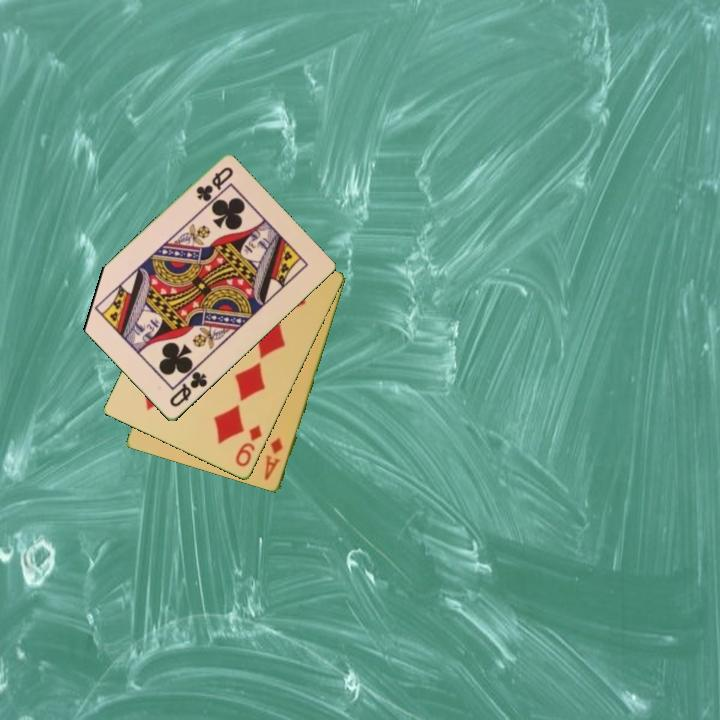9d: (232, 422, 265, 470)
Ad: (261, 434, 286, 483)
Qc: (166, 368, 210, 410), (192, 164, 236, 205)
